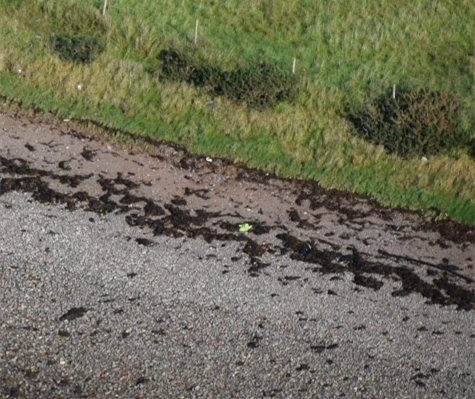scattered_barrel: (10, 55, 97, 99)
white_in_green: (216, 201, 273, 250), (189, 133, 239, 183), (400, 132, 448, 179)
